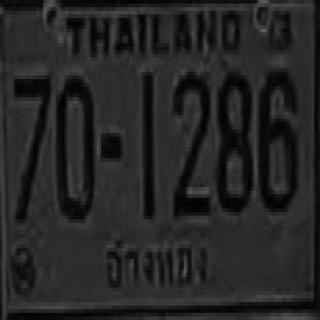N00: (56, 74, 93, 217)
N01: (141, 68, 154, 216)
N02: (171, 68, 209, 212)
N06: (257, 65, 296, 209)
N07: (12, 72, 50, 219)
N08: (215, 70, 250, 210)
P02: (98, 230, 219, 300)
